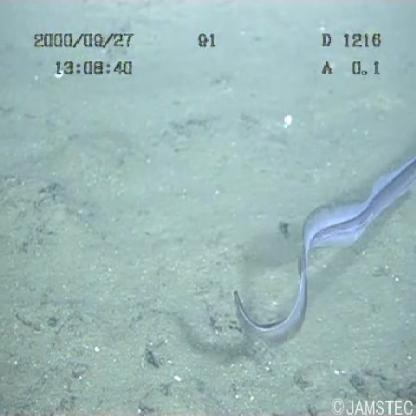Bio: (229, 149, 416, 352)
